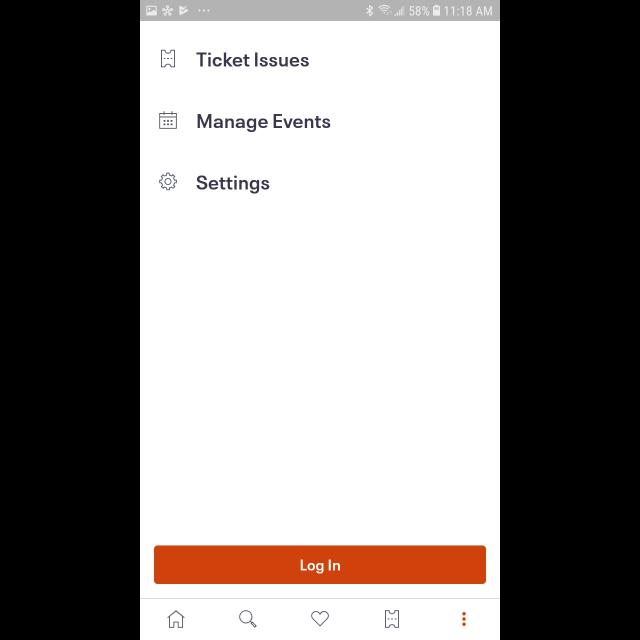icon: (159, 111, 177, 129), (159, 173, 177, 191), (167, 610, 185, 628), (239, 610, 257, 628), (311, 611, 329, 627), (384, 610, 400, 628), (162, 50, 176, 68), (462, 612, 466, 626)
text: (198, 114, 330, 132), (196, 52, 310, 68), (197, 174, 270, 193)
textbutton: (154, 546, 486, 584)
uppertaskbar: (140, 1, 500, 22)
